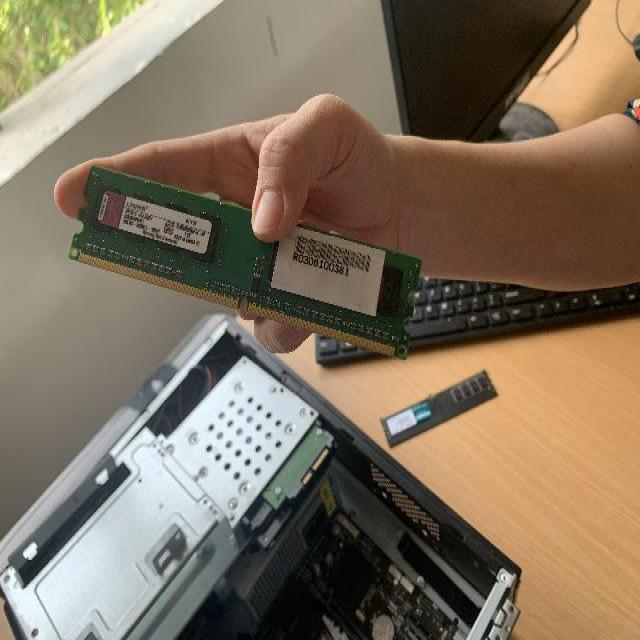RAM: (67, 157, 423, 363), (380, 364, 499, 448)
